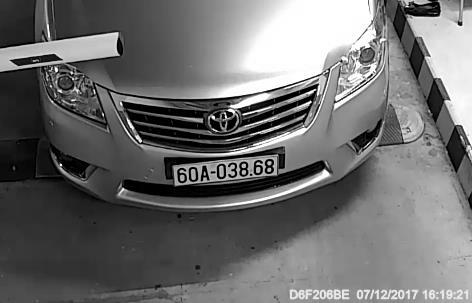License-plate: (164, 149, 283, 195)
